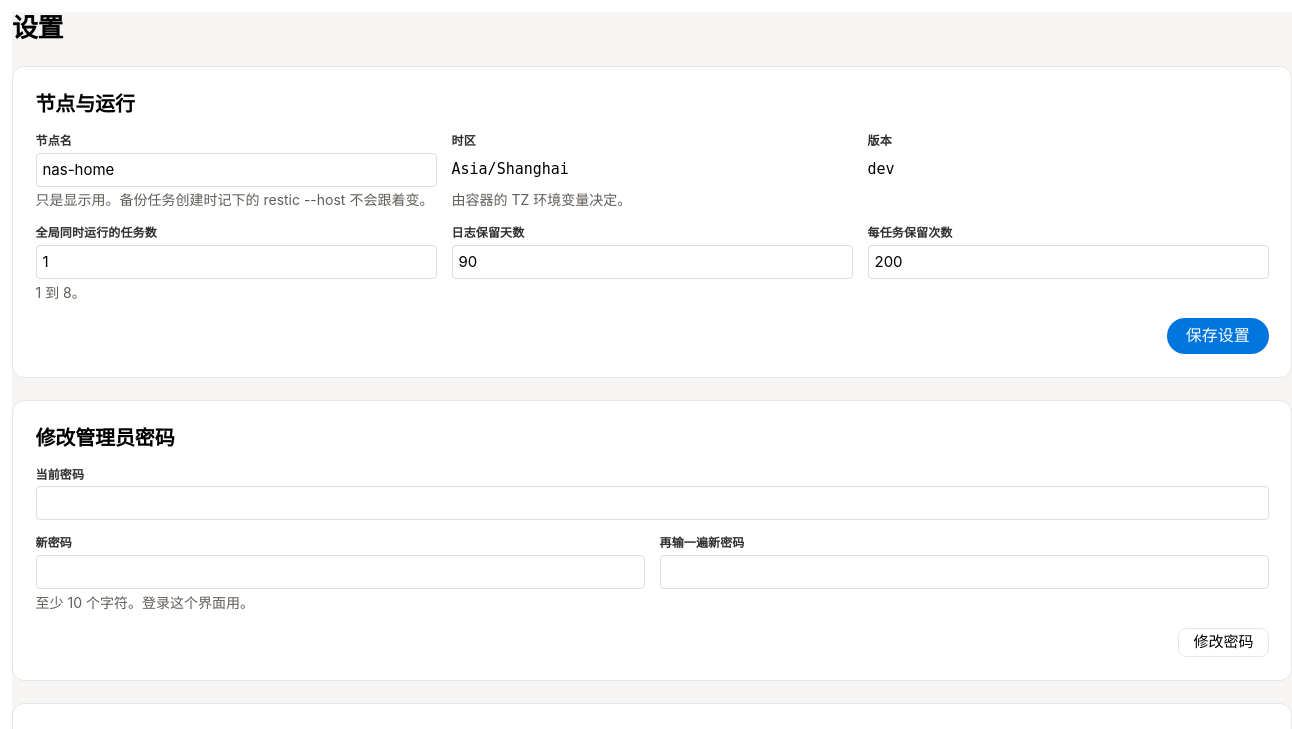
Test: change password checks the new one locally
The image size is (1292, 729).
In the password field labelled "当前密码": (652, 503) [36,486,1268,520], type "old password 1"
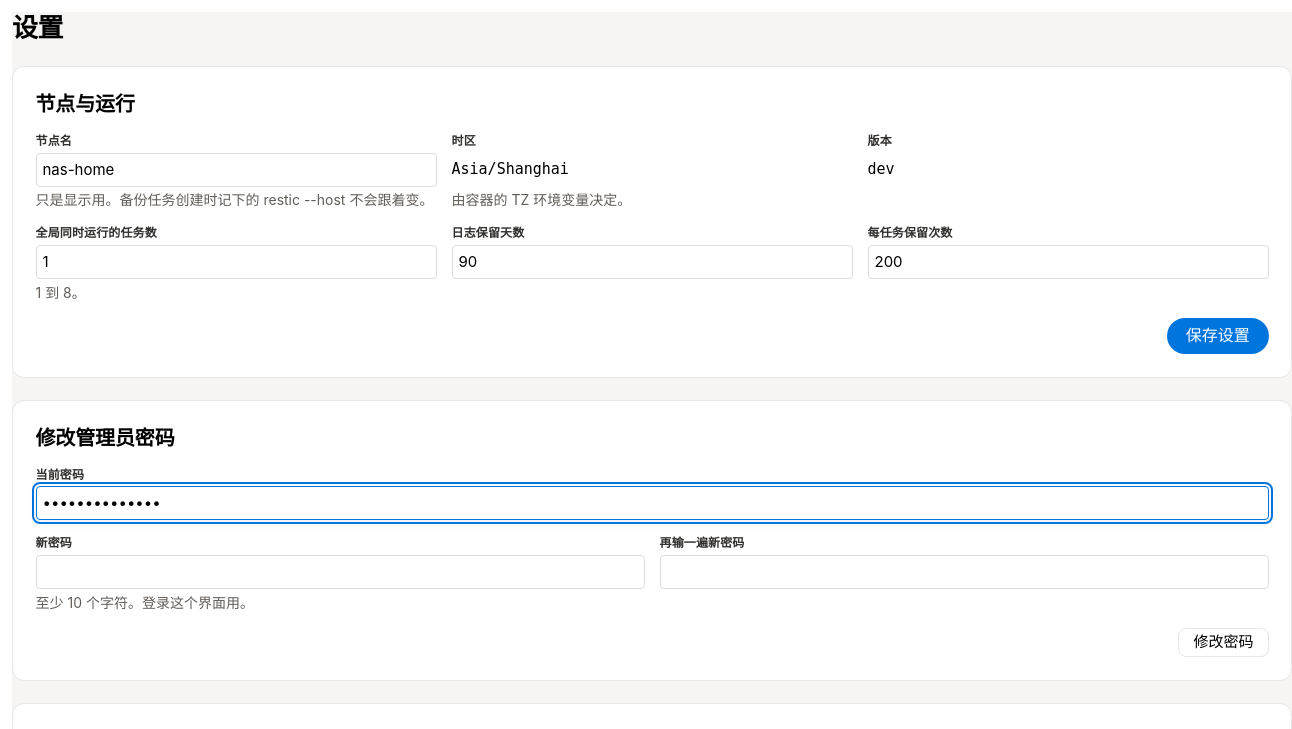
In the password field labelled "新密码": (340, 572) [36,555,644,589], type "short"
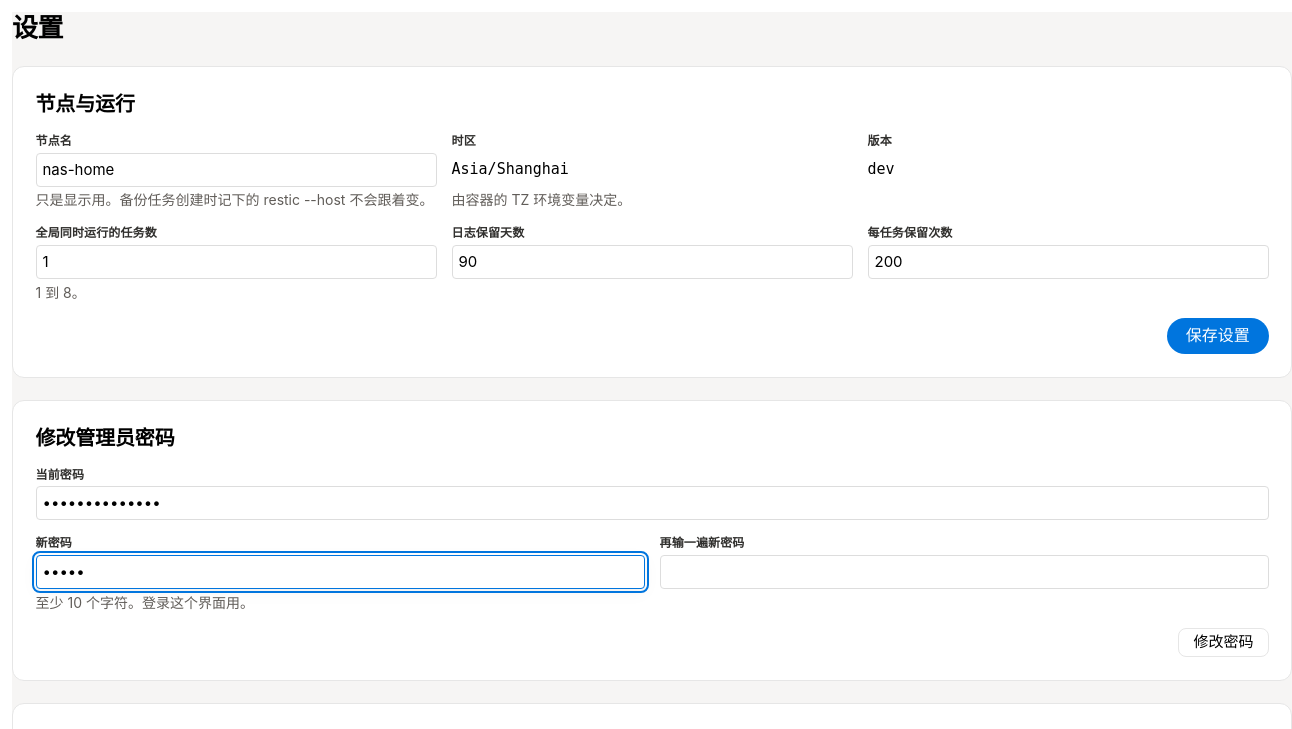
In the password field labelled "再输一遍新密码": (964, 572) [660,555,1268,589], type "short"
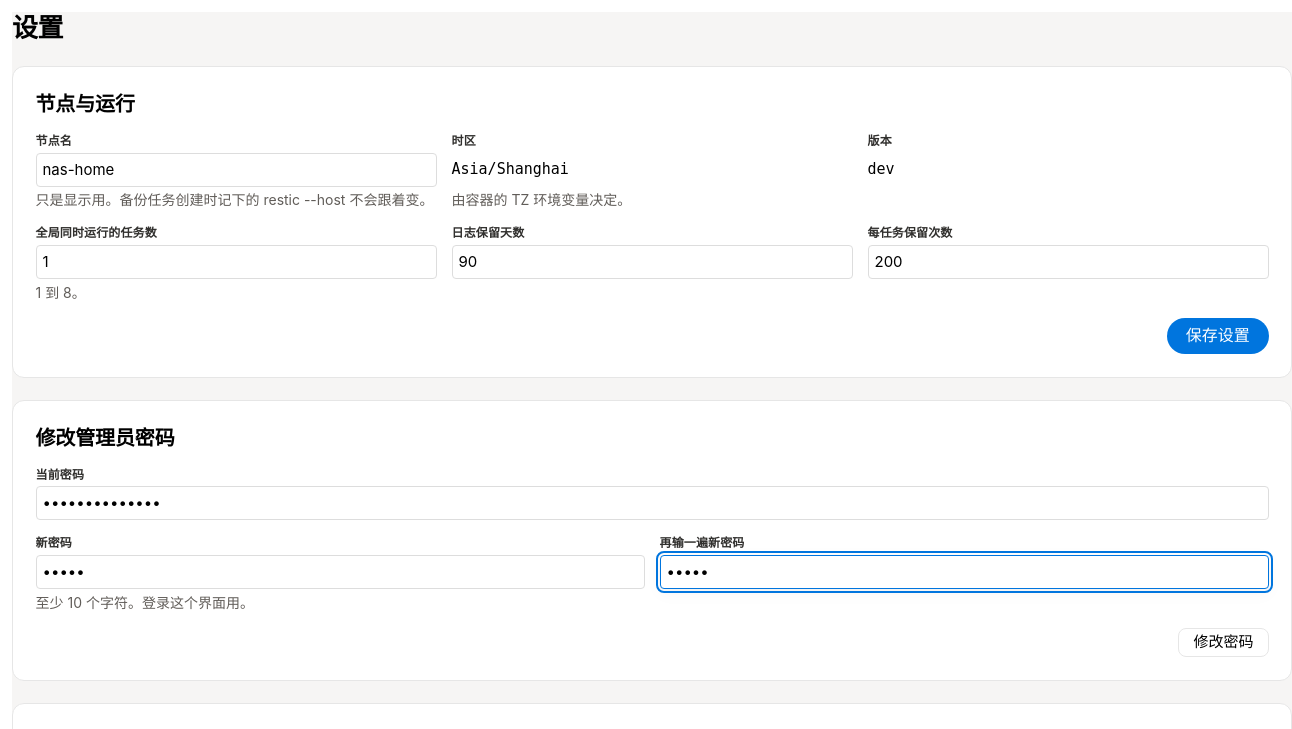
Click the button "修改密码": (1224, 642) [1178,628,1268,657]
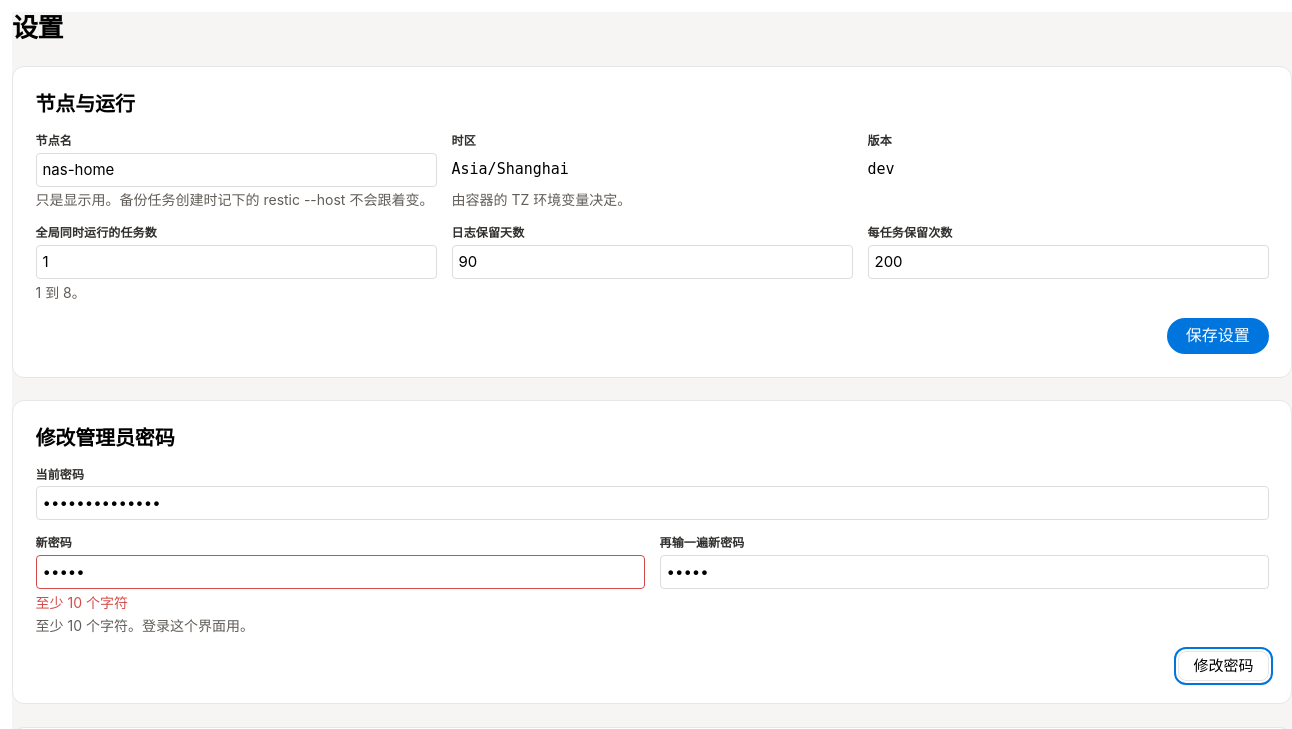
Check: the text "至少 10 个字符" is shown, box [36,594,128,611]
